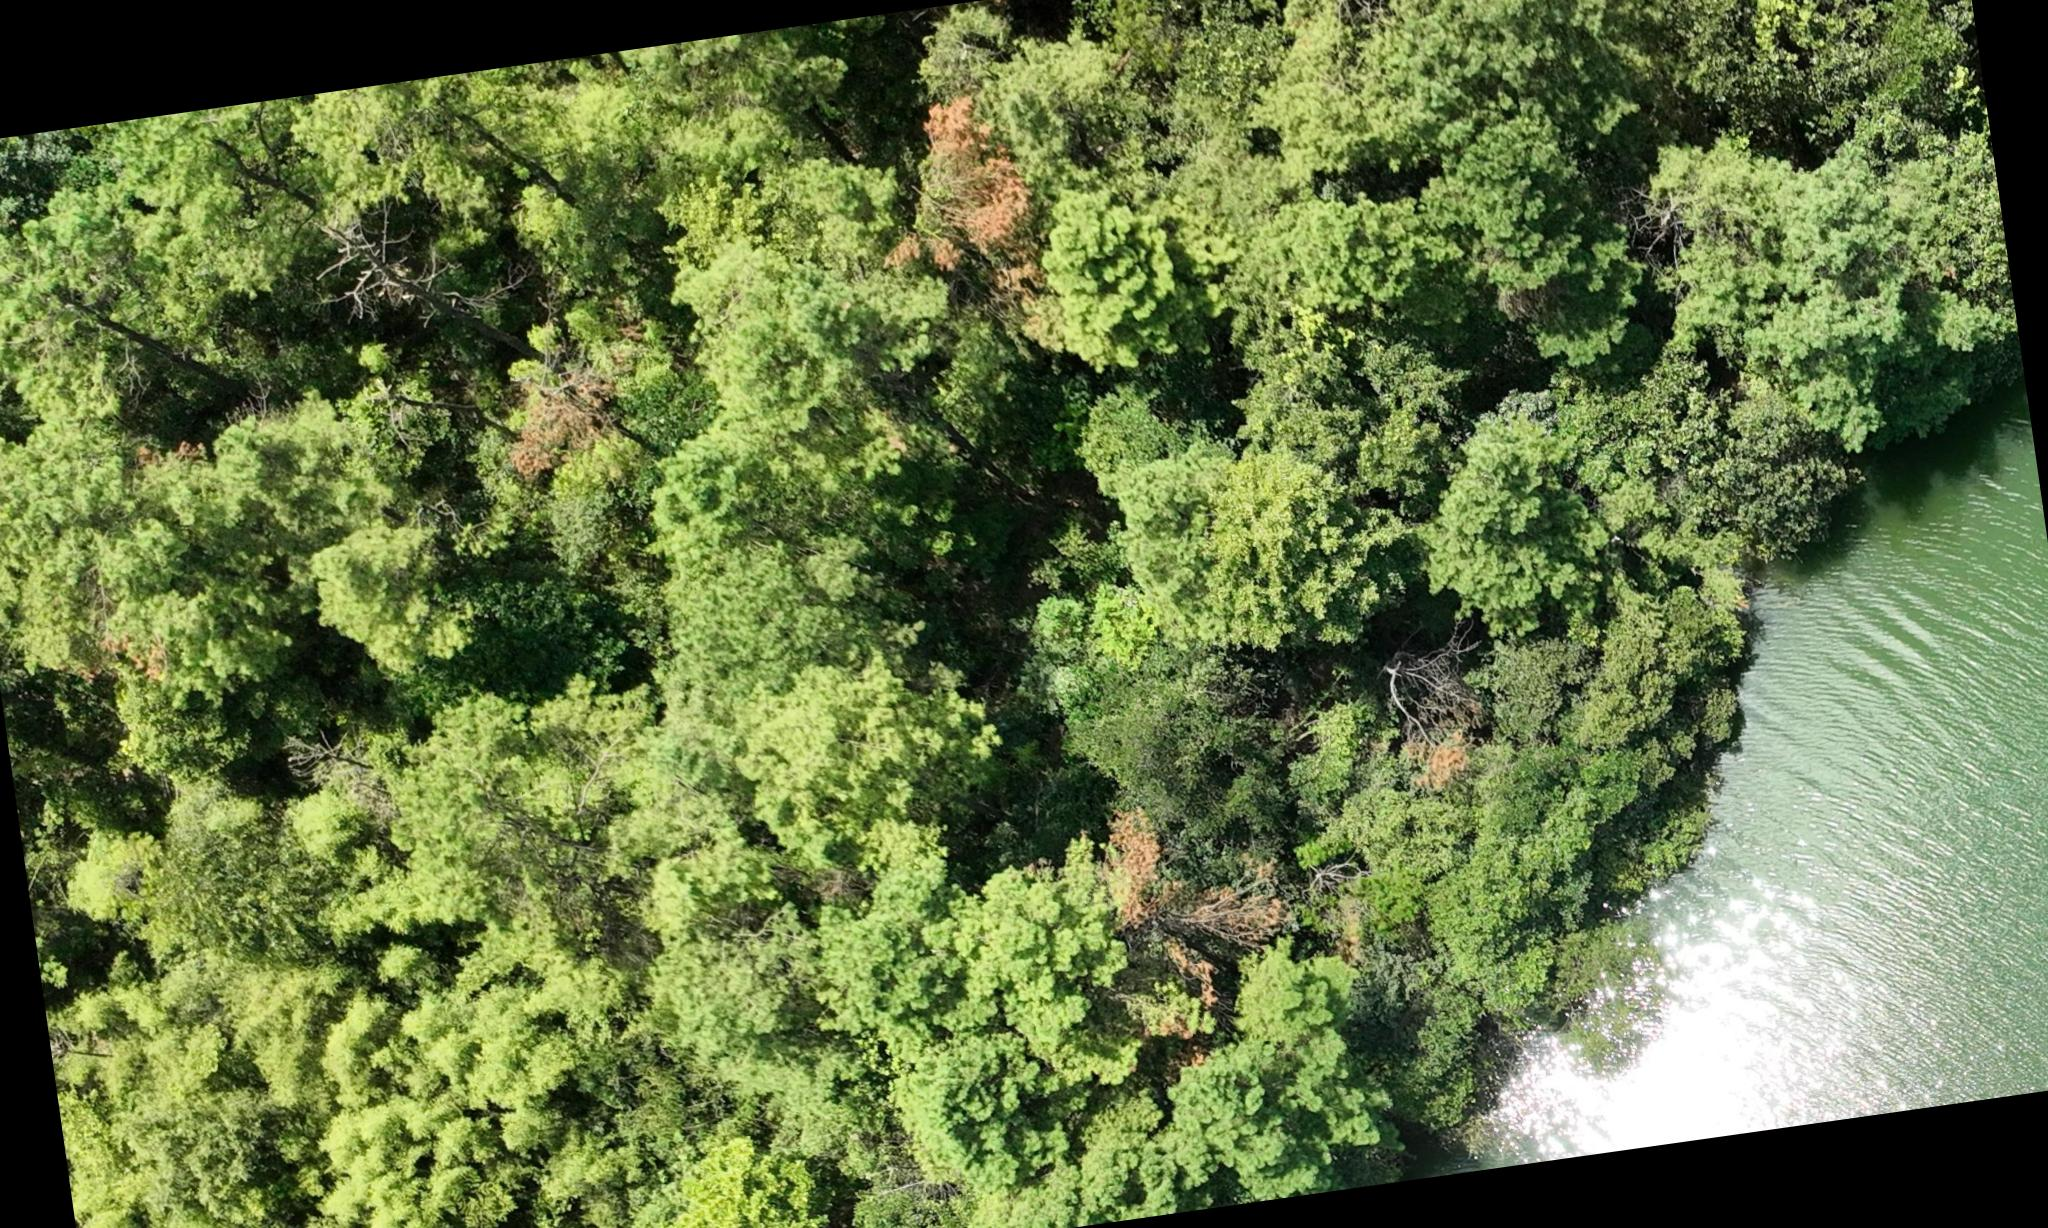heavy: (1099, 785, 1317, 1025), (887, 79, 1051, 326), (1378, 620, 1500, 794), (491, 352, 636, 496)
